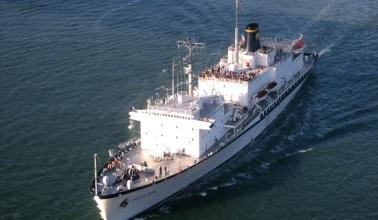warship: (90, 23, 316, 218)
